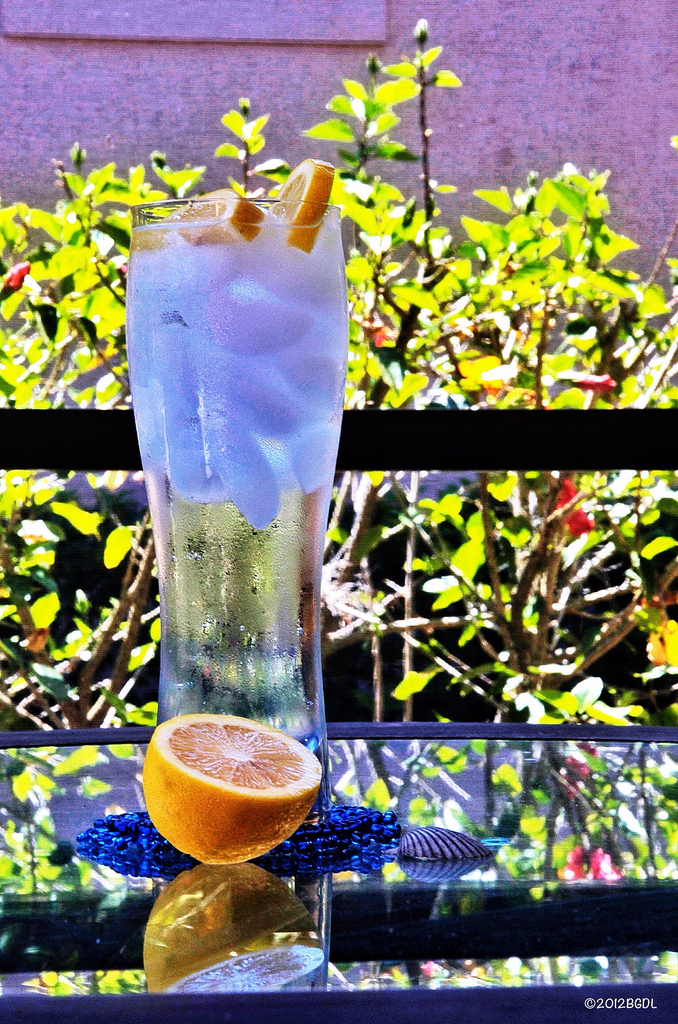glass of water: (109, 172, 352, 760)
